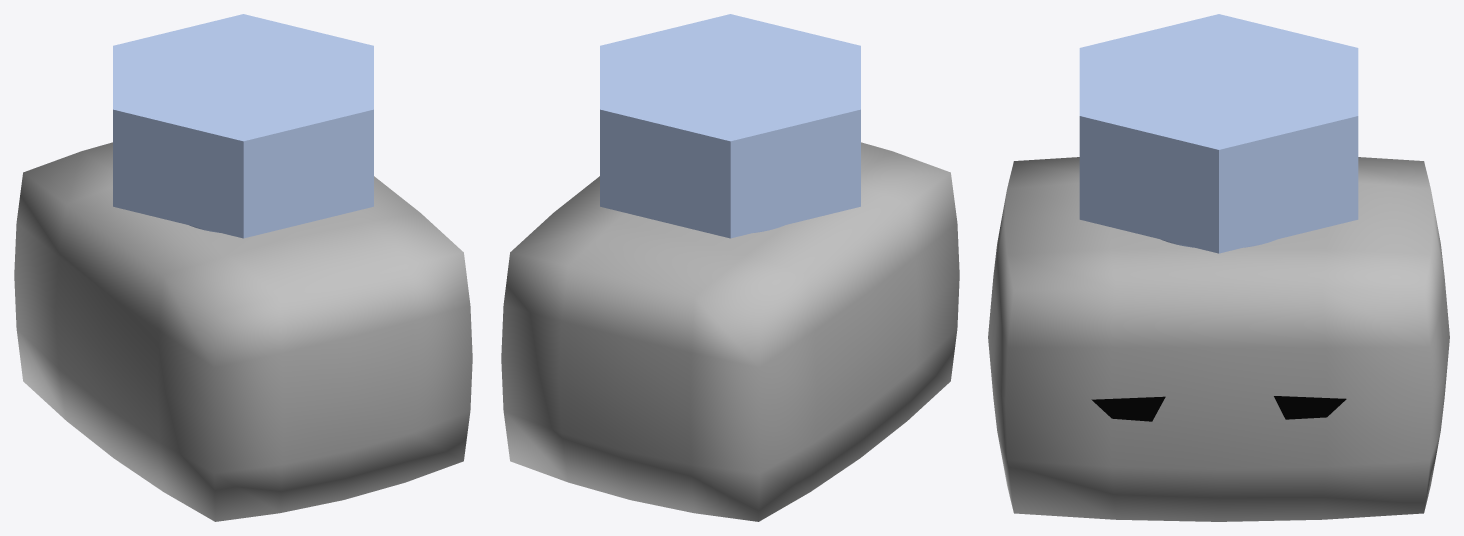
Rendered from head1.gltf.
3 renders of one model, left to right at view 1: azimuth 30°, elevation 25°; view 2: azimuth 150°, elevation 25°; view 3: azimuth 270°, elevation 25°, orthographic. The views are drawn at different scales.
Visible parts, largest first — view 1: Head, Bolt; view 2: Head, Bolt; view 3: Head, Bolt, Eyes.001, 平面.
Boxes of the visible parts, x1=… form: Head: x1=14, y1=142, x2=472, y2=521; Bolt: x1=113, y1=14, x2=373, y2=238; Head: x1=501, y1=142, x2=959, y2=521; Bolt: x1=600, y1=14, x2=860, y2=238; Head: x1=988, y1=157, x2=1449, y2=521; Bolt: x1=1079, y1=14, x2=1358, y2=253; Eyes.001: x1=1091, y1=396, x2=1165, y2=421; 平面: x1=1274, y1=396, x2=1346, y2=419.
Size of the model in its own units: 2.27 by 2.76 by 3.02.
